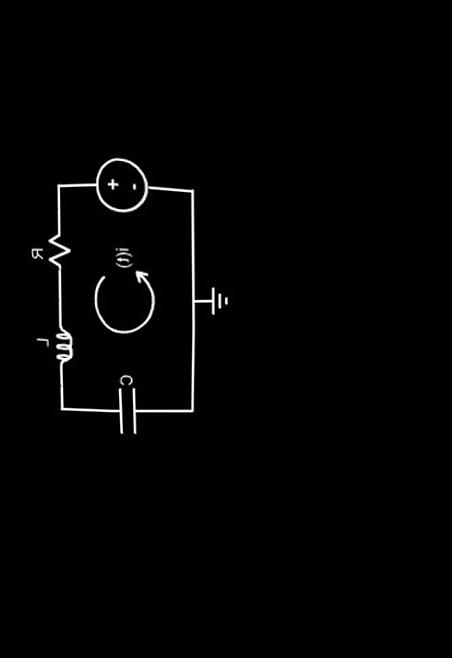Battery: (77, 139, 159, 231)
